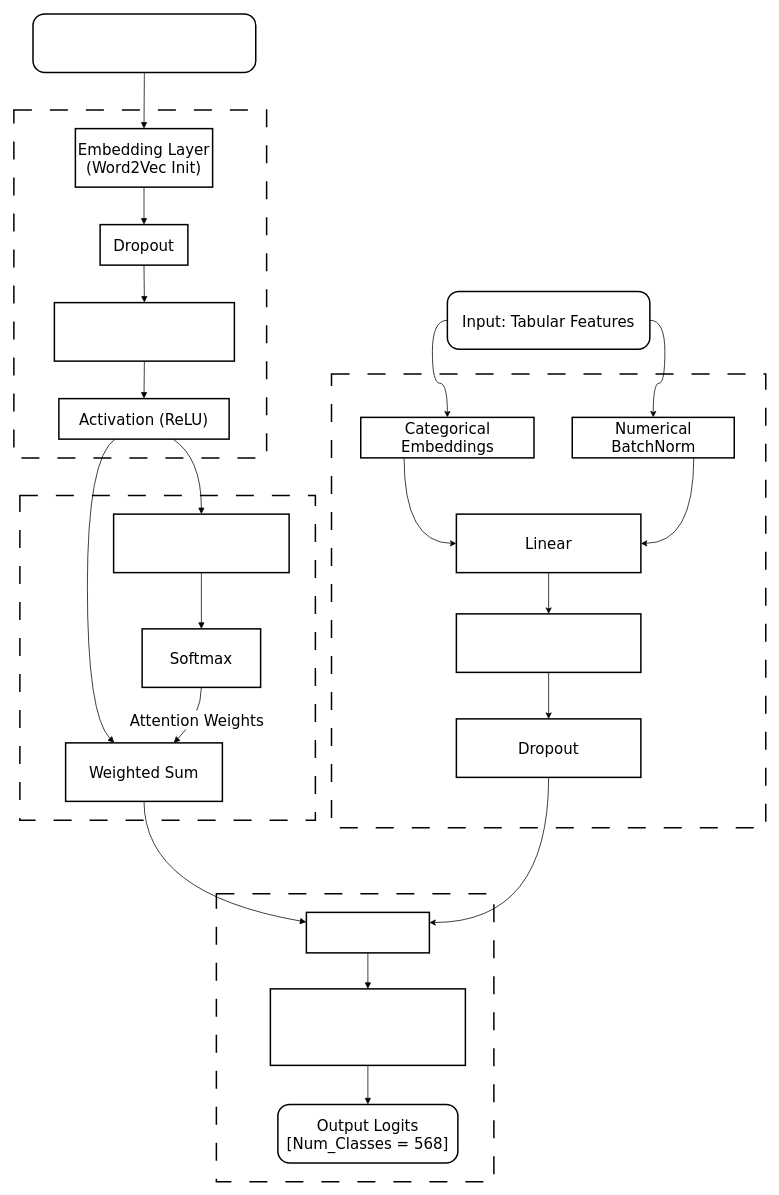
This 779x1195 diagram has some shape labels left out. Each missing label, with the centre of its shape:
Concatenation: (367,932)
Conv1d Layer: (144,332)
Fully Connected Layers: (367,1027)
Input: Clinical Text Indices: (144,43)
Linear Layer 'U': (201,543)
ReLU: (548,643)
